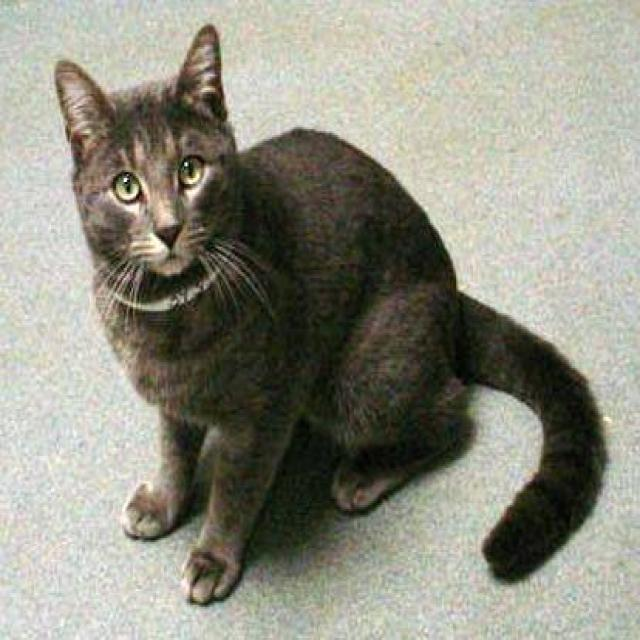Cat: (49, 13, 247, 303)
